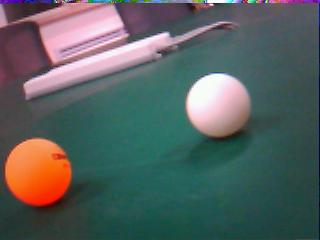oball: (6, 138, 71, 206)
